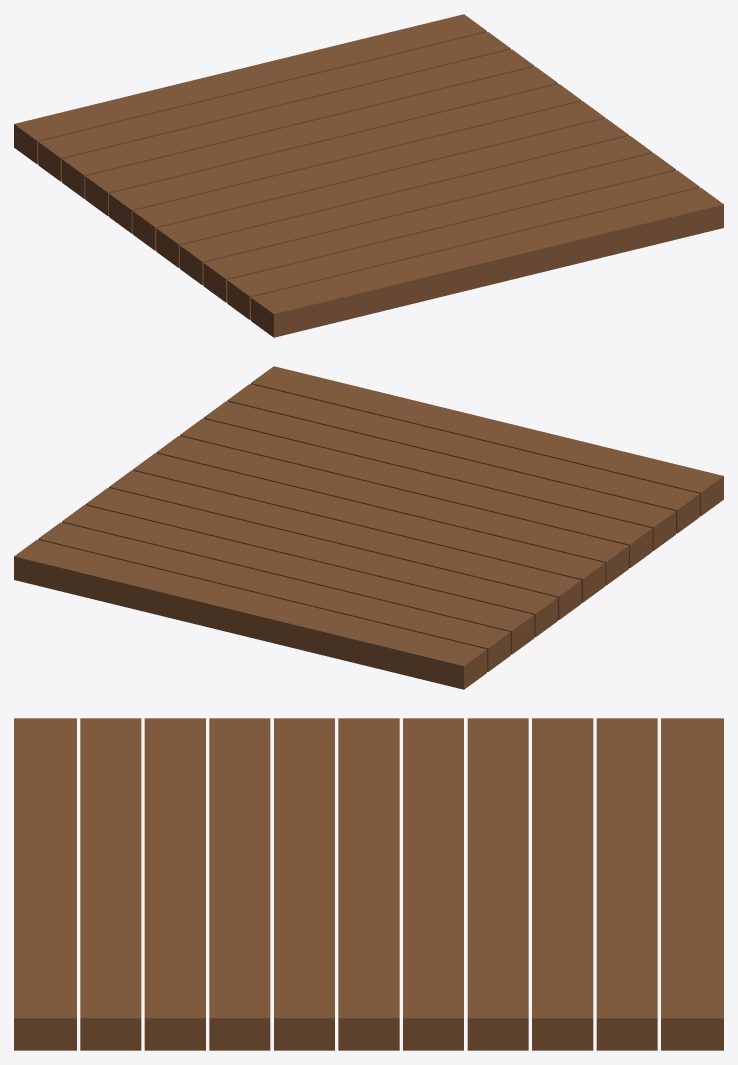
The model's file is woodPlanks.fbx.
3 views of the same model, one above another, from view 1: azimuth 30°, elevation 25°; view 2: azimuth 150°, elevation 25°; view 3: azimuth 270°, elevation 25° (orthographic). The views are drawn at different scales.
Parts seen in each view (by area): view 1: planks; view 2: planks; view 3: planks.
Part boxes in pixels (x1,y1,x2,y2): planks: (14,14,723,337); planks: (14,366,723,689); planks: (14,718,723,1050).
Bounding box in the file's own units: 400 × 20 × 400.
